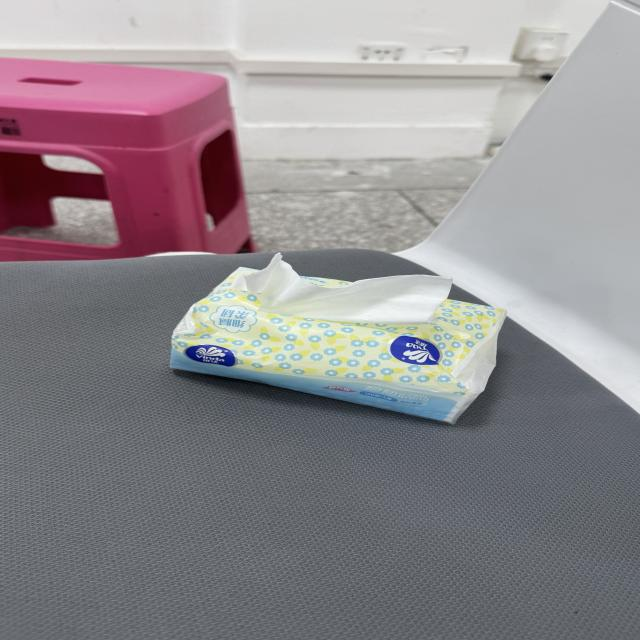tissue: (171, 255, 504, 422), (235, 254, 451, 324)
